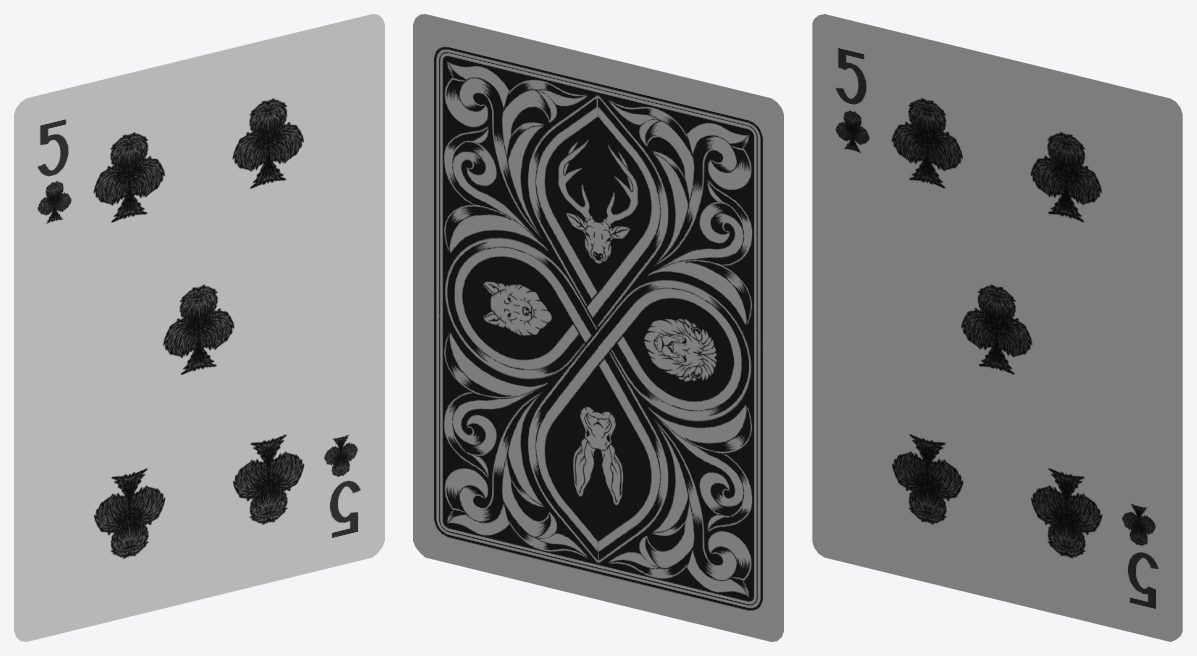
3 renders of one model, left to right at view 1: azimuth 30°, elevation 25°; view 2: azimuth 150°, elevation 25°; view 3: azimuth 330°, elevation 25°, orthographic.
Visible parts, largest first — view 1: Node; view 2: Node; view 3: Node.
Boxes of the visible parts, x1,y1,x2,y2 form: Node: (14, 14, 384, 641); Node: (413, 14, 783, 641); Node: (812, 14, 1182, 641).
Bounding box in the file's own units: 1.5 × 2.1 × 7.08e-05.
Materials: 1 (1 with a texture image).
